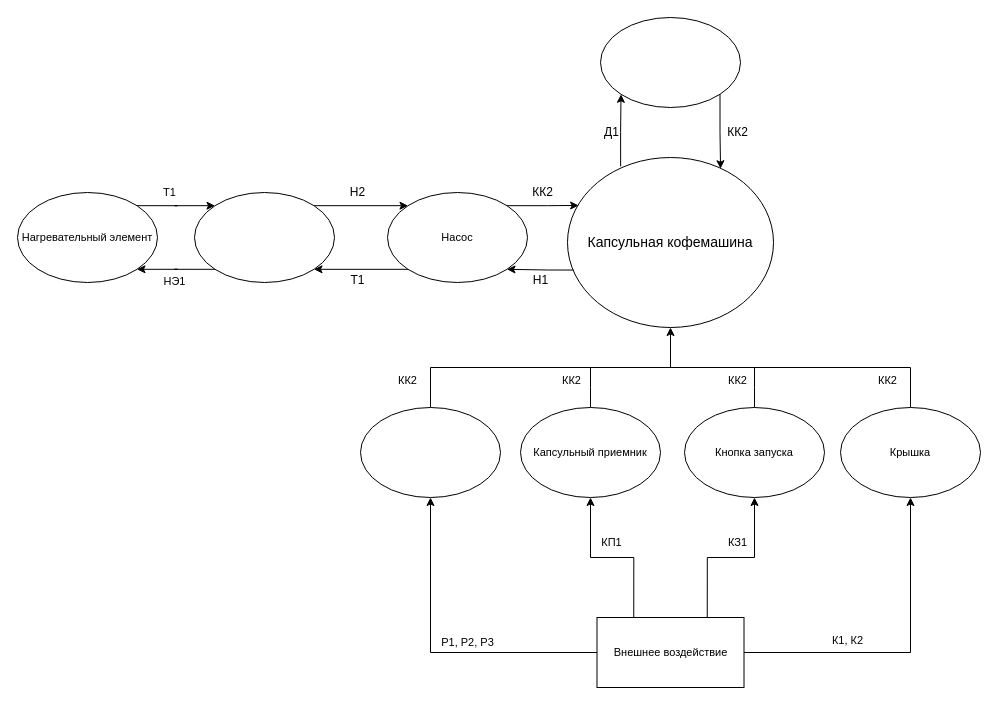
This 998x705 diagram has some shape labels left out. The shapes that lost their labels are listed below. From the top down, each one's centre as x and y in pixels, then its label:
point (670, 62): Диспенсер
point (264, 237): Термостат
point (430, 452): Резервуар для воды
